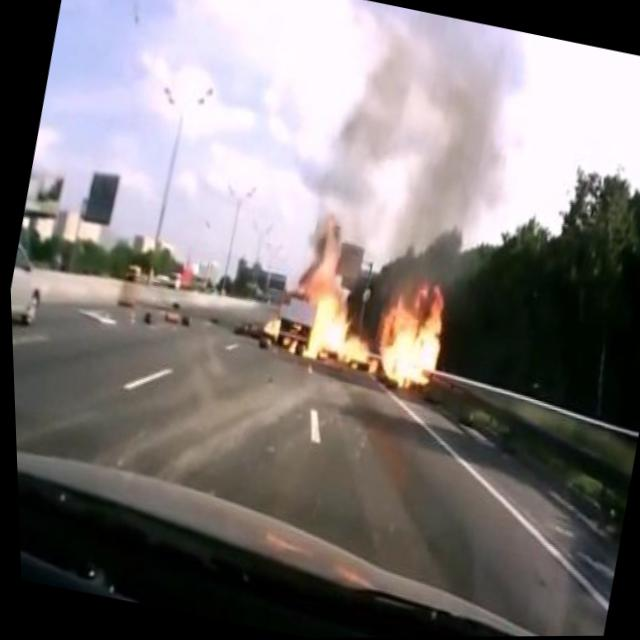fire: (284, 220, 463, 400), (257, 306, 284, 339)
